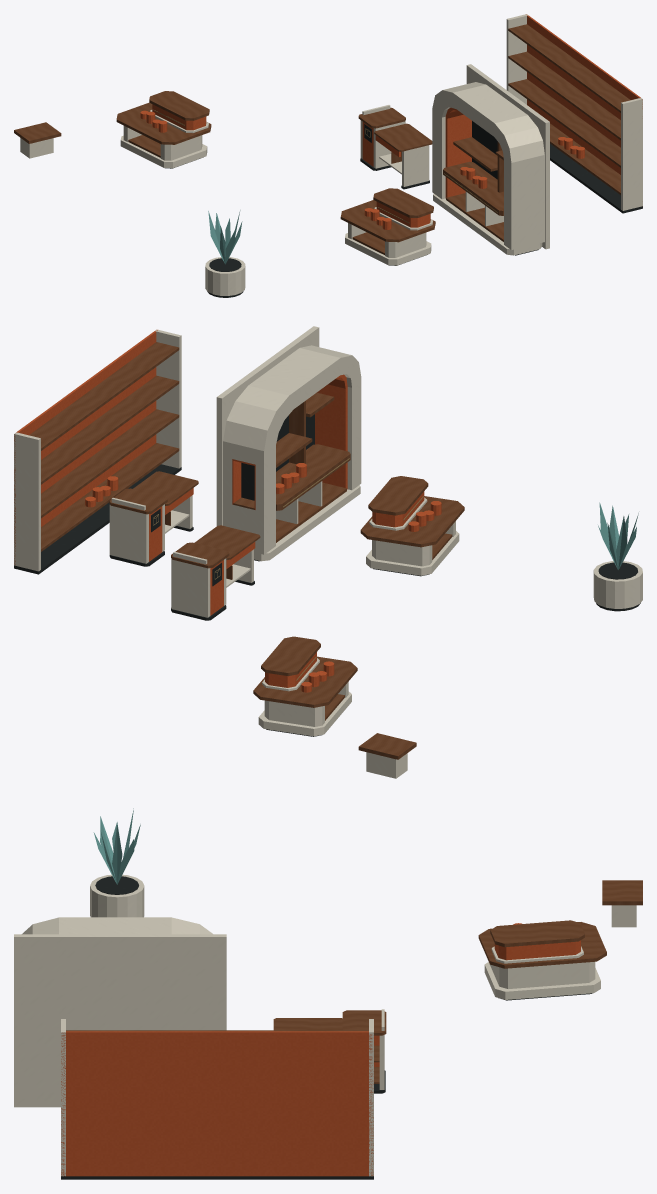
Rendered from SHOP_D09_S100_F288__fitout.glb.
The picture shows the model from 3 angles, top to bottom: view 1: azimuth 30°, elevation 25°; view 2: azimuth 150°, elevation 25°; view 3: azimuth 270°, elevation 25°; orthographic projection. The views are drawn at different scales.
Visible parts, largest first — view 1: SHOP_D09_S100_F288__fitout__ivory_enamel, SHOP_D09_S100_F288__fitout__warm_walnut, SHOP_D09_S100_F288__fitout__retail_terracotta_enamel, SHOP_D09_S100_F288__fitout__dark_rubber, SHOP_D09_S100_F288__fitout__quiet_teal; view 2: SHOP_D09_S100_F288__fitout__ivory_enamel, SHOP_D09_S100_F288__fitout__warm_walnut, SHOP_D09_S100_F288__fitout__retail_terracotta_enamel, SHOP_D09_S100_F288__fitout__dark_rubber, SHOP_D09_S100_F288__fitout__quiet_teal; view 3: SHOP_D09_S100_F288__fitout__retail_terracotta_enamel, SHOP_D09_S100_F288__fitout__ivory_enamel, SHOP_D09_S100_F288__fitout__warm_walnut, SHOP_D09_S100_F288__fitout__dark_rubber, SHOP_D09_S100_F288__fitout__quiet_teal.
Boxes of the visible parts, bbox=[...] form: SHOP_D09_S100_F288__fitout__ivory_enamel: bbox=[20, 14, 642, 295]; SHOP_D09_S100_F288__fitout__warm_walnut: bbox=[14, 24, 630, 254]; SHOP_D09_S100_F288__fitout__retail_terracotta_enamel: bbox=[140, 14, 642, 229]; SHOP_D09_S100_F288__fitout__dark_rubber: bbox=[165, 121, 642, 297]; SHOP_D09_S100_F288__fitout__quiet_teal: bbox=[208, 210, 242, 264]; SHOP_D09_S100_F288__fitout__ivory_enamel: bbox=[14, 326, 642, 778]; SHOP_D09_S100_F288__fitout__warm_walnut: bbox=[29, 342, 464, 759]; SHOP_D09_S100_F288__fitout__retail_terracotta_enamel: bbox=[14, 330, 441, 692]; SHOP_D09_S100_F288__fitout__dark_rubber: bbox=[14, 414, 640, 736]; SHOP_D09_S100_F288__fitout__quiet_teal: bbox=[598, 502, 638, 570]; SHOP_D09_S100_F288__fitout__retail_terracotta_enamel: bbox=[61, 923, 580, 1176]; SHOP_D09_S100_F288__fitout__ivory_enamel: bbox=[14, 874, 636, 1176]; SHOP_D09_S100_F288__fitout__warm_walnut: bbox=[66, 880, 642, 1083]; SHOP_D09_S100_F288__fitout__dark_rubber: bbox=[61, 876, 592, 1179]; SHOP_D09_S100_F288__fitout__quiet_teal: bbox=[93, 808, 140, 884].
Bounding box in the file's own units: 10.28 × 3 × 10.05.
6 materials, 5 textured.
